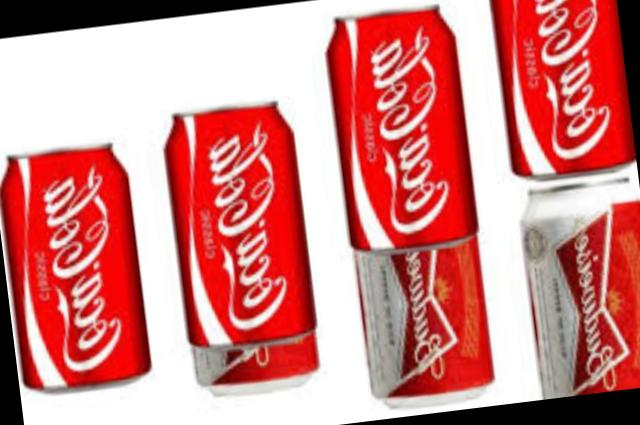metal: (331, 3, 496, 401), (169, 100, 319, 389), (4, 142, 151, 382)
